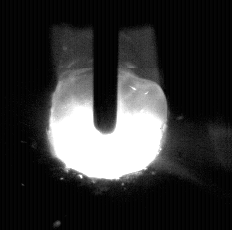arame: (95, 0, 117, 134)
poca: (47, 0, 166, 230)
